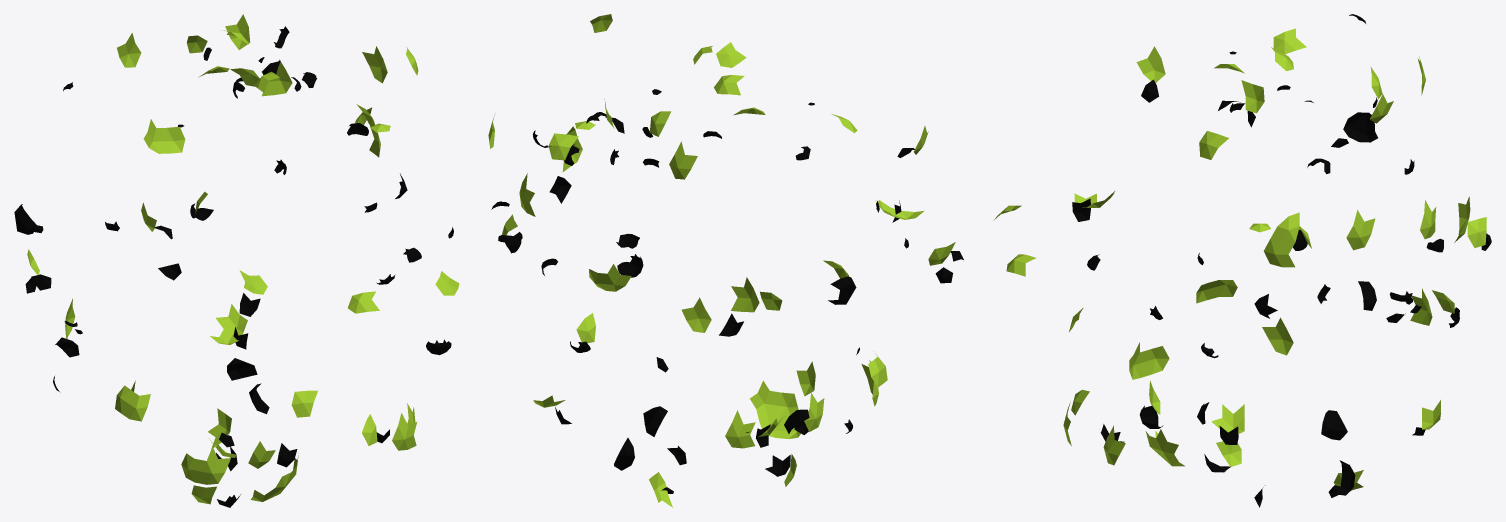
The model's file is explode.f0014.glb.
3 views of the same model, side by side, from view 1: azimuth 30°, elevation 25°; view 2: azimuth 150°, elevation 25°; view 3: azimuth 270°, elevation 25° (orthographic). The views are drawn at different scales.
Parts seen in each view (by area): view 1: Body.001; view 2: Body.001; view 3: Body.001.
Boxes of the visible parts, left/top/right/bottom form: Body.001: left=14, top=14, right=459, bottom=507; Body.001: left=488, top=14, right=963, bottom=507; Body.001: left=993, top=14, right=1491, bottom=507.
Bounding box in the file's own units: 11.01 × 11.35 × 11.17.
Materials: 1 (1 with a texture image).
